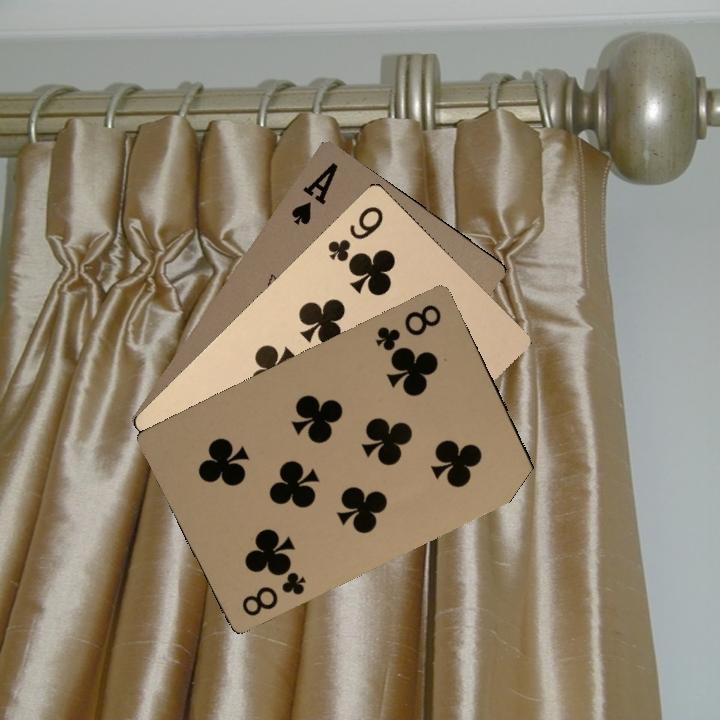8c: (237, 560, 309, 619), (371, 300, 444, 355)
9c: (323, 202, 386, 266)
As: (287, 158, 341, 228)
